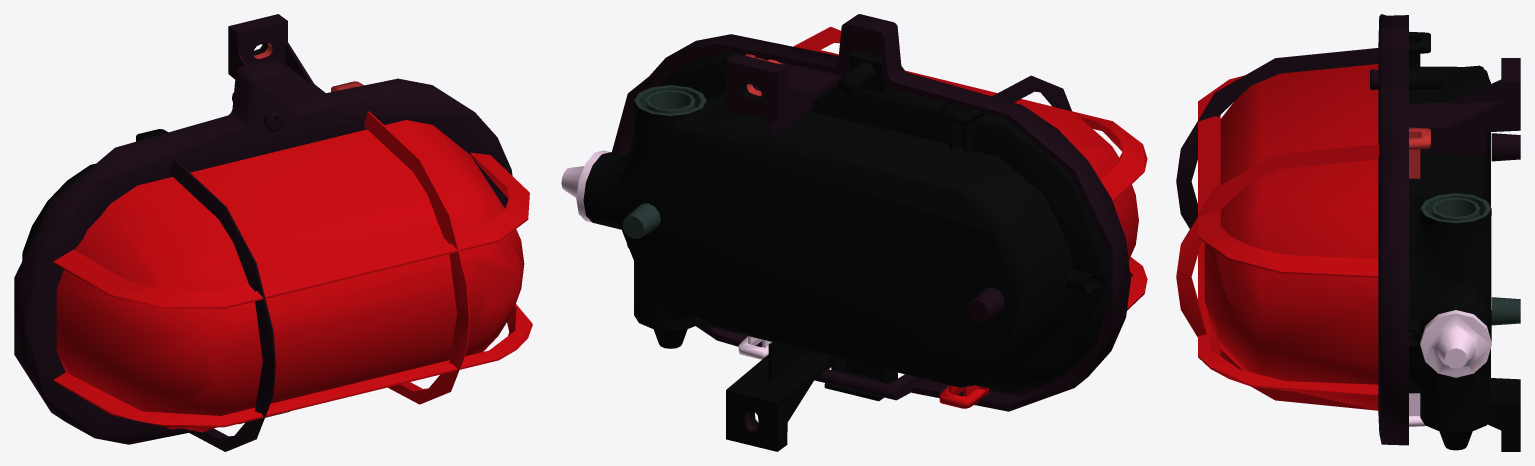
File: lampanaddver.fbx
3 views of the same model, side by side, from view 1: azimuth 30°, elevation 25°; view 2: azimuth 150°, elevation 25°; view 3: azimuth 270°, elevation 25° (orthographic). The views are drawn at different scales.
Parts seen in each view (by area): view 1: warning; view 2: warning; view 3: warning.
Part boxes in pixels (x1,y1,x2,y2): warning: [14, 14, 532, 451]; warning: [561, 14, 1147, 451]; warning: [1176, 14, 1520, 451].
Size of the model in its own units: 16.27 by 11.51 by 9.47.
